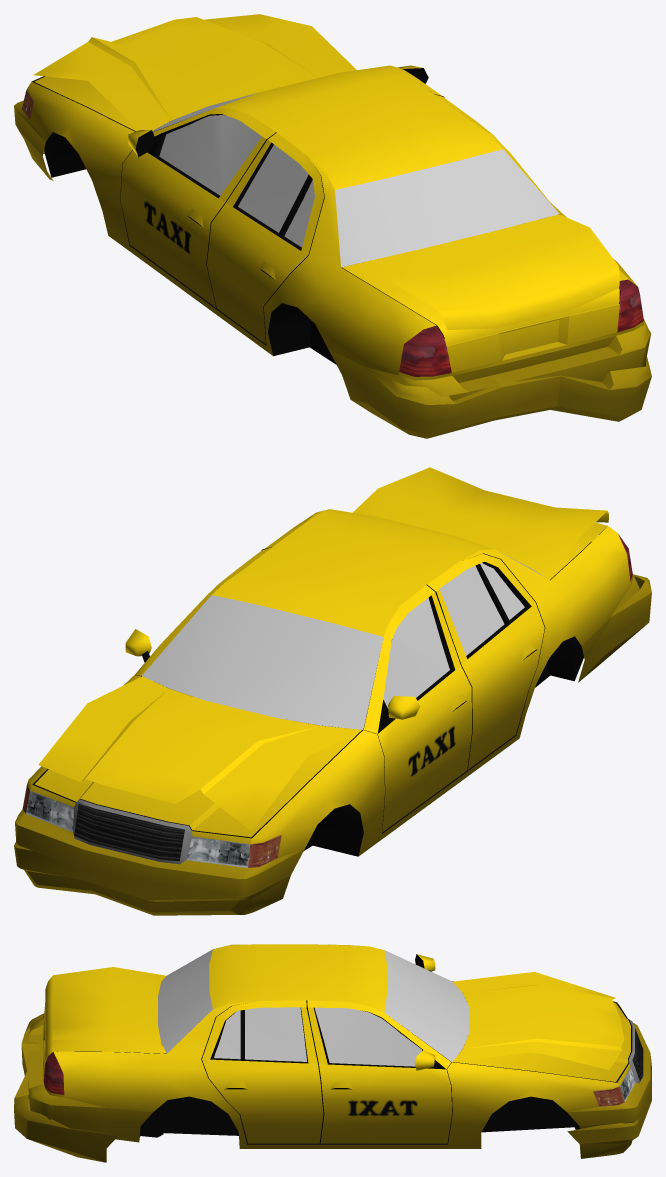
File: car04.obj
The picture shows the model from 3 angles, top to bottom: view 1: azimuth 30°, elevation 25°; view 2: azimuth 150°, elevation 25°; view 3: azimuth 270°, elevation 25°; orthographic projection. The views are drawn at different scales.
Visible parts, largest first — view 1: car04, rearDamaged, frontDamaged, rearIntact, frontIntact; view 2: car04, frontDamaged, frontIntact, rearDamaged, rearIntact; view 3: car04, frontDamaged, rearDamaged, rearIntact, frontIntact.
Boxes of the visible parts, x1,y1,x2,y2 form: car04: (22,65,644,382); rearDamaged: (342,214,651,438); frontDamaged: (34,14,356,153); rearIntact: (328,267,651,400); frontIntact: (14,76,138,180); car04: (22,509,633,867); frontDamaged: (14,676,361,915); frontIntact: (15,730,361,914); rearDamaged: (353,467,651,682); rearIntact: (550,522,639,659); car04: (43,944,643,1148); frontDamaged: (452,972,651,1158); rearDamaged: (14,967,166,1162); rearIntact: (28,1017,165,1142); frontIntact: (453,1002,651,1128).
Bounding box in the file's own units: 2.14 × 1.42 × 5.5.
2 materials, 1 textured.
